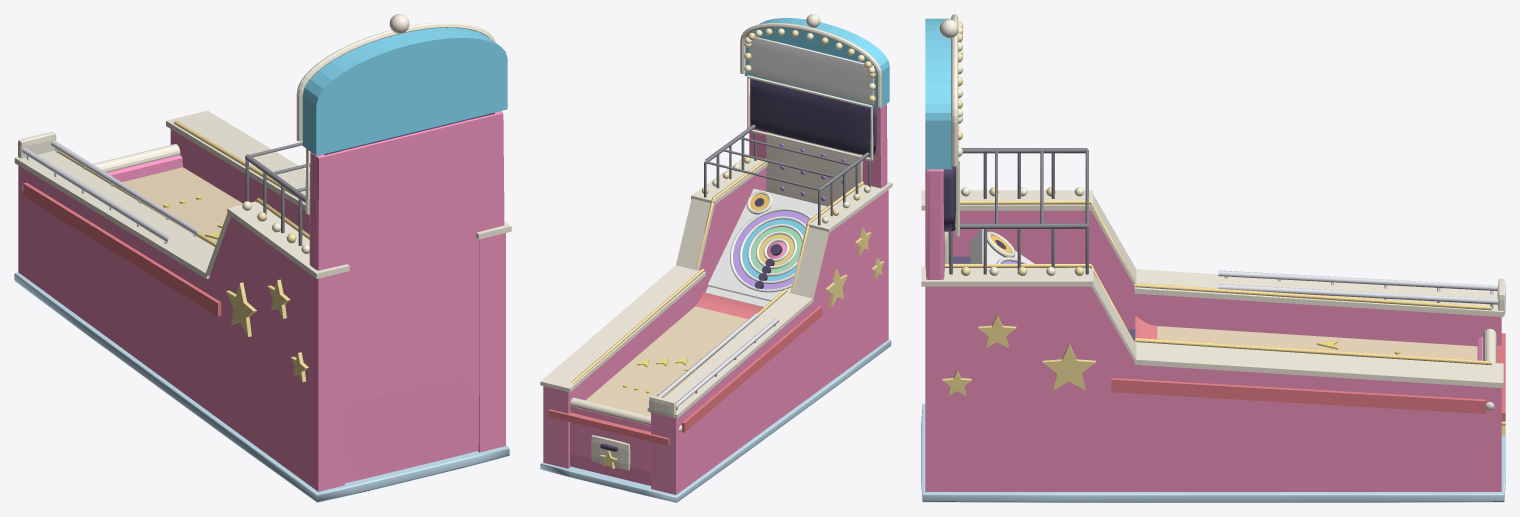
The model's file is ArcadeSkeeMachine.glb.
The picture shows the model from 3 angles, left to right: view 1: azimuth 30°, elevation 25°; view 2: azimuth 150°, elevation 25°; view 3: azimuth 270°, elevation 25°; orthographic projection. The views are drawn at different scales.
Visible parts, largest first — view 1: Cabinet, Marquee, Trim, Base, Lane, Stripes, Chute, Cage, Stars, Glow; view 2: Cabinet, Trim, Lane, Display, Sign, Back, Base, Marquee, Stripes, Board, Cage, Lips (+11 smaller); view 3: Cabinet, Trim, Base, Stripes, Glow, Lane, Marquee, Cage, Chute, Stars, Display, Board (+1 smaller).
Boxes of the visible parts, x1,y1,x2,y2 form: Cabinet: [18, 111, 505, 491]; Marquee: [302, 27, 507, 155]; Trim: [14, 14, 511, 278]; Base: [14, 272, 509, 502]; Lane: [122, 167, 242, 242]; Stripes: [23, 182, 221, 316]; Chute: [22, 140, 199, 243]; Cage: [245, 142, 310, 245]; Stars: [226, 279, 308, 381]; Glow: [58, 120, 309, 246]; Cabinet: [543, 78, 888, 494]; Trim: [540, 14, 892, 470]; Lane: [586, 306, 747, 416]; Display: [750, 79, 876, 156]; Sign: [749, 37, 874, 104]; Back: [766, 131, 862, 206]; Base: [540, 339, 891, 502]; Marquee: [744, 18, 889, 108]; Stripes: [548, 306, 822, 445]; Board: [705, 188, 827, 306]; Cage: [704, 124, 870, 225]; Lips: [730, 208, 811, 292]; Cabinet: [925, 169, 1501, 491]; Trim: [921, 14, 1505, 410]; Base: [921, 403, 1505, 502]; Stripes: [1111, 333, 1505, 421]; Glow: [944, 200, 1491, 365]; Lane: [1157, 326, 1477, 360]; Marquee: [925, 18, 951, 169]; Cage: [949, 148, 1088, 274]; Chute: [1218, 270, 1498, 308]; Stars: [942, 314, 1505, 435]; Display: [943, 166, 955, 231]; Board: [970, 229, 1034, 263].
Bounding box in the file's own units: 5.52 × 12.09 × 14.6.
